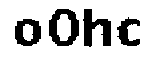0: (47, 6, 82, 50)
c: (116, 15, 143, 49)
h: (83, 7, 115, 50)
o: (11, 14, 43, 49)
